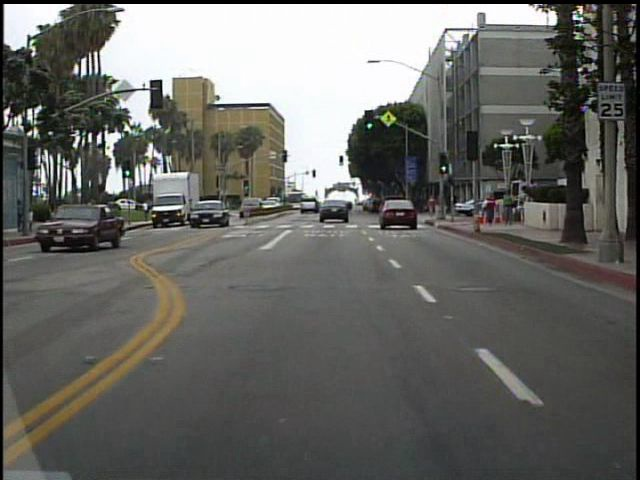person: (81, 194, 99, 237), (423, 193, 439, 218)
